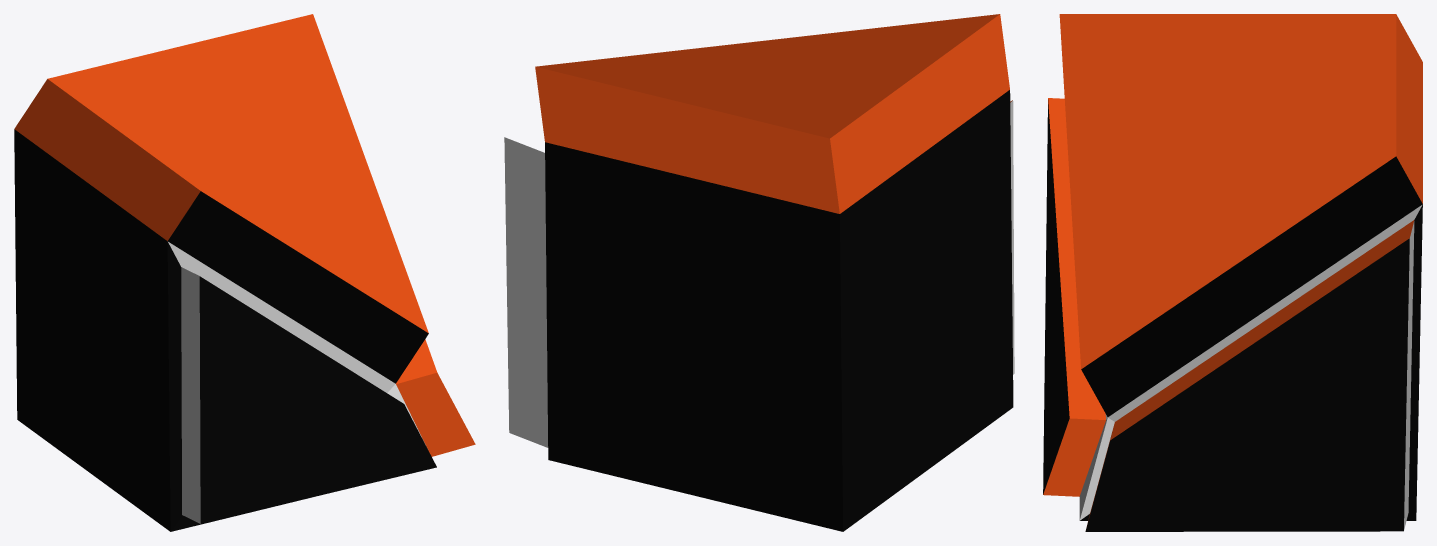
The model's file is extrusion.glb.
3 renders of one model, left to right at view 1: azimuth 30°, elevation 25°; view 2: azimuth 150°, elevation 25°; view 3: azimuth 270°, elevation 25°, orthographic. The views are drawn at different scales.
Parts seen in each view (by area): view 1: Cube; view 2: Cube; view 3: Cube.
Boxes of the visible parts, x1,y1,x2,y2 form: Cube: [14, 14, 475, 531]; Cube: [504, 14, 1014, 531]; Cube: [1043, 14, 1422, 531].
Size of the model in its own units: 2.32 by 2.46 by 2.26.
